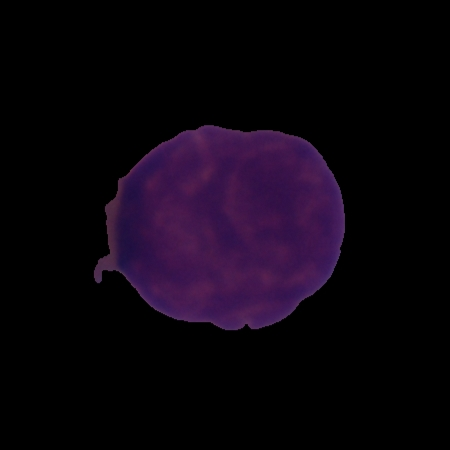ALL: (91, 122, 349, 335)
